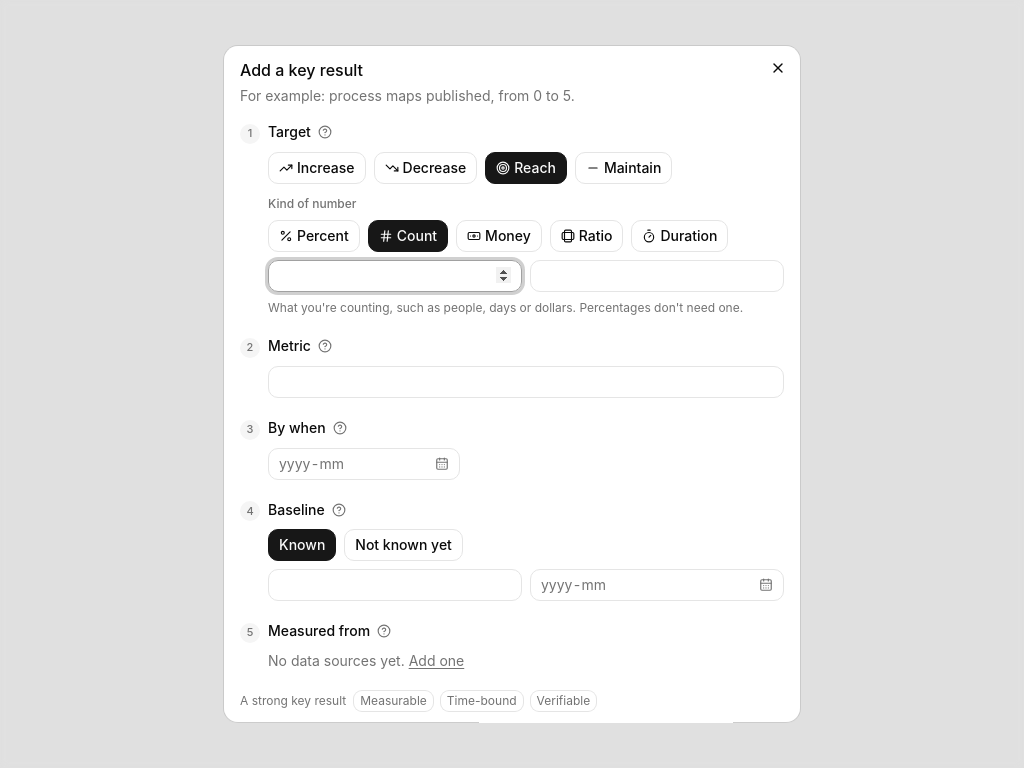
Test: KeyResultDialog › refuses a target figure with no month, rather than dropping it
This screenshot has width=1024, height=768.
Type "deliveries" into the field named "Unit". click: (657, 276)
box: [530,260,784,292]
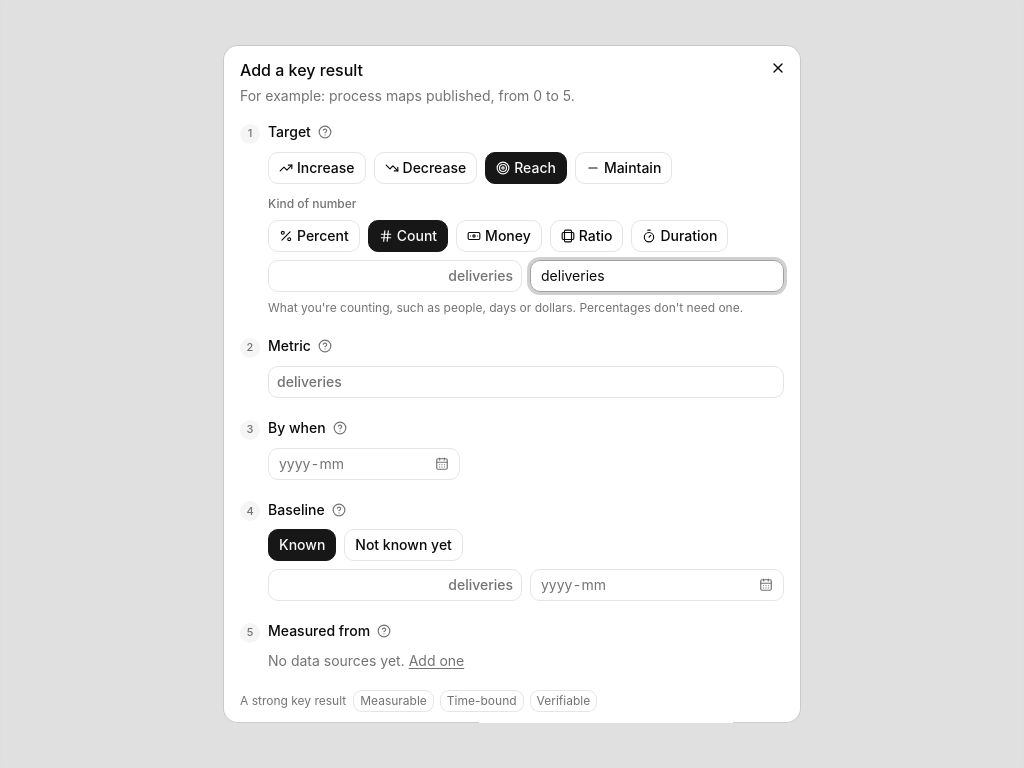
Type "checked" into the field named "Metric". click: (562, 382)
box: [342,366,783,398]
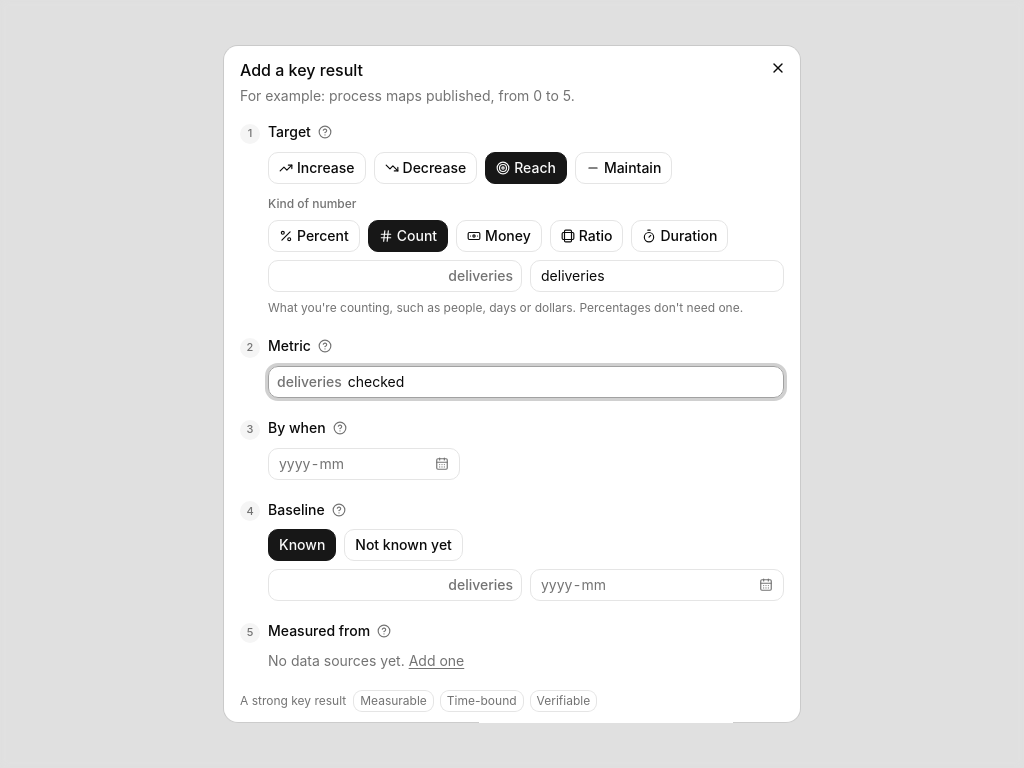
Type "1200" into the number field named "Target number". click: (359, 276)
box: [269,260,448,292]
(page scrolled)
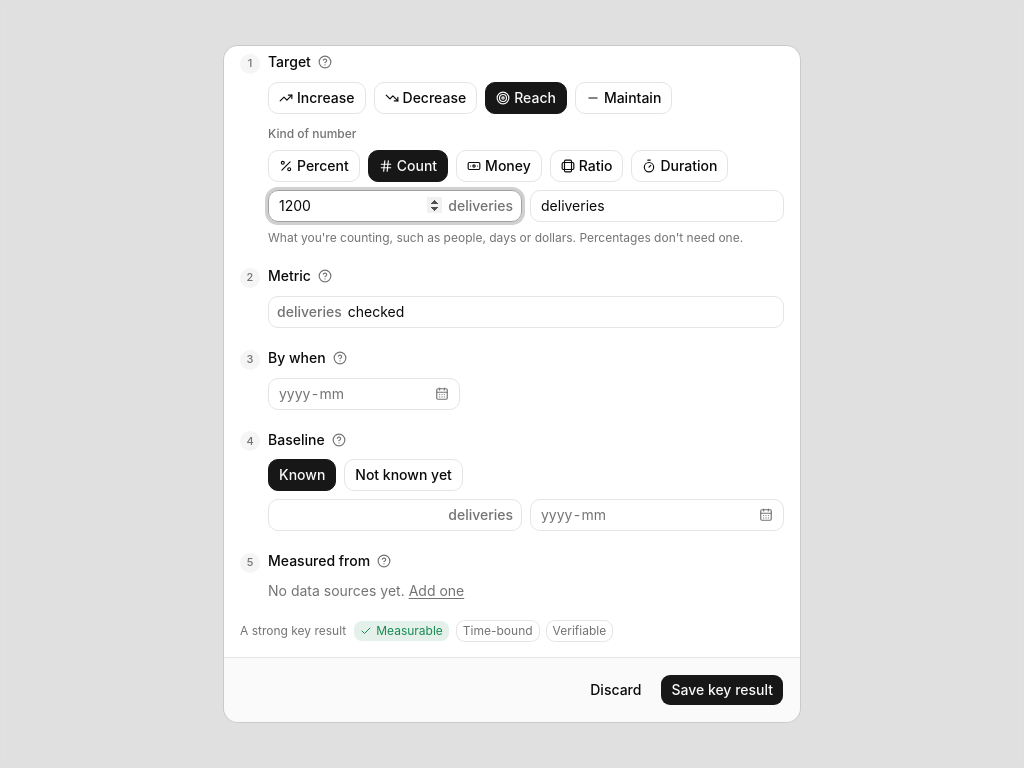
Click the button "Save key result". click: (722, 690)
box: [660,674,784,706]
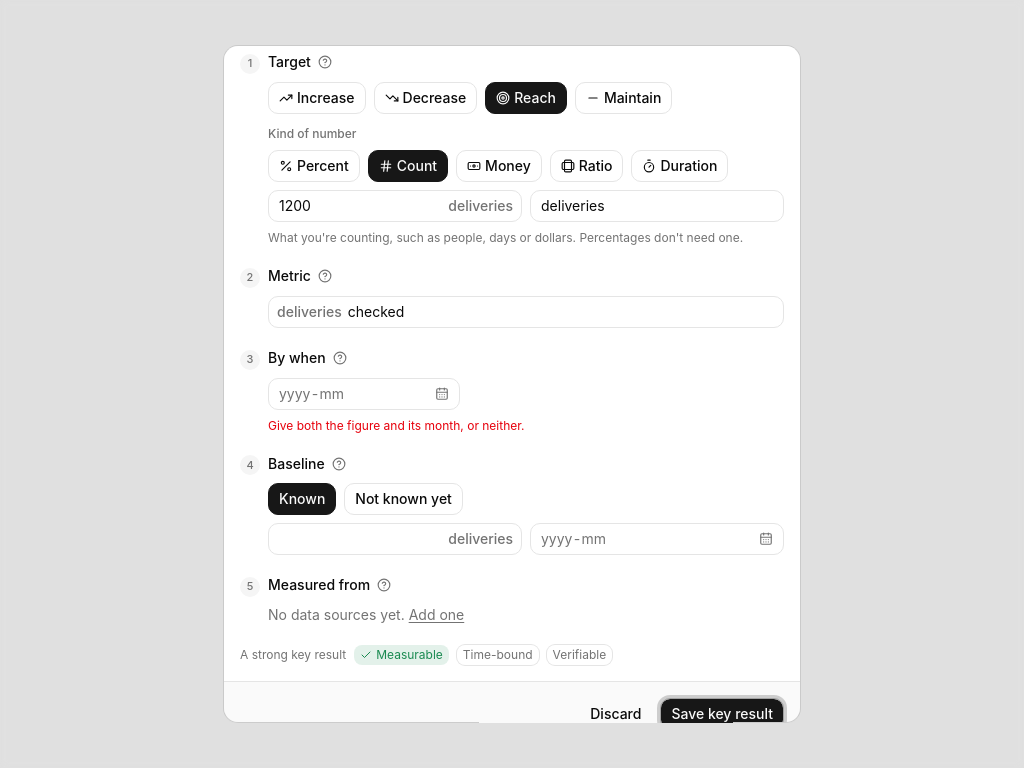
expect the text "Give both the figure and its month, or neither." is shown: met, box [268,418,524,433]
